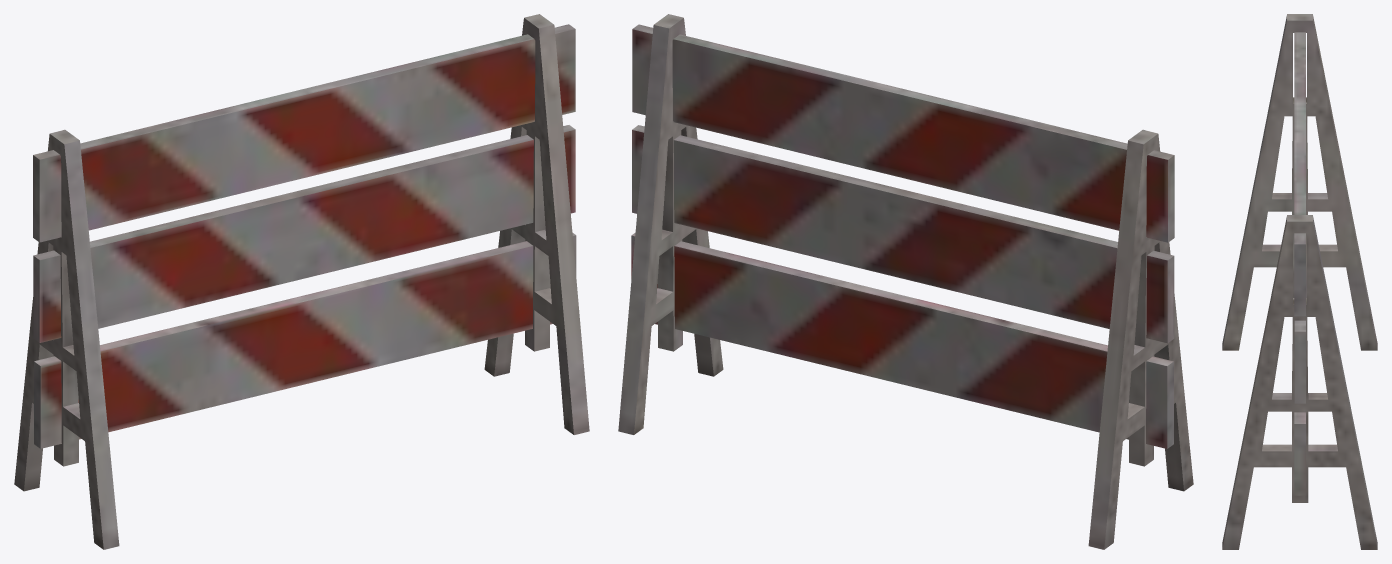
File: SM_Barricade_02_f83f49.glb
The picture shows the model from 3 angles, left to right: view 1: azimuth 30°, elevation 25°; view 2: azimuth 150°, elevation 25°; view 3: azimuth 270°, elevation 25°; orthographic projection. The views are drawn at different scales.
Size of the model in its own units: 1.03 by 0.695 by 0.2976.
Materials: 1 (1 with a texture image).
